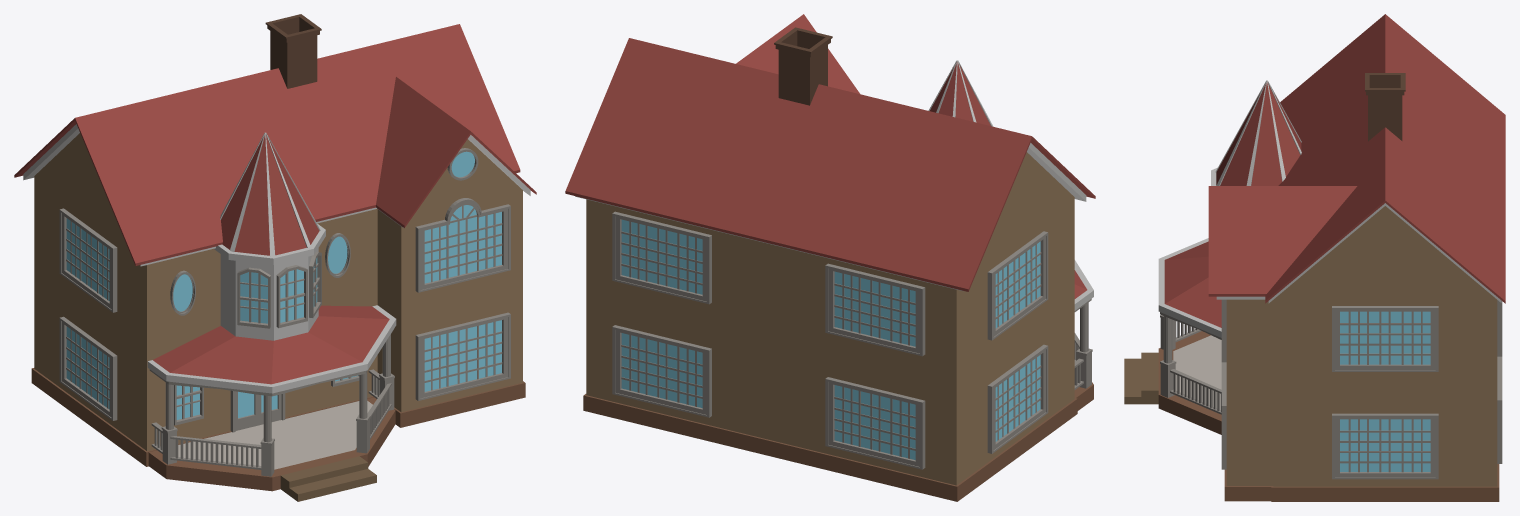
File: SM_house_06_A.gltf
3 renders of one model, left to right at view 1: azimuth 30°, elevation 25°; view 2: azimuth 150°, elevation 25°; view 3: azimuth 270°, elevation 25°, orthographic. The views are drawn at different scales.
Visible parts, largest first — view 1: SM_house_06_A; view 2: SM_house_06_A; view 3: SM_house_06_A.
Boxes of the visible parts, box(x1,y1,x2,y2) form: SM_house_06_A: box(14, 14, 536, 501); SM_house_06_A: box(565, 14, 1095, 501); SM_house_06_A: box(1124, 14, 1505, 501).
Bounding box in the file's own units: 4.23 × 3.67 × 3.66.
